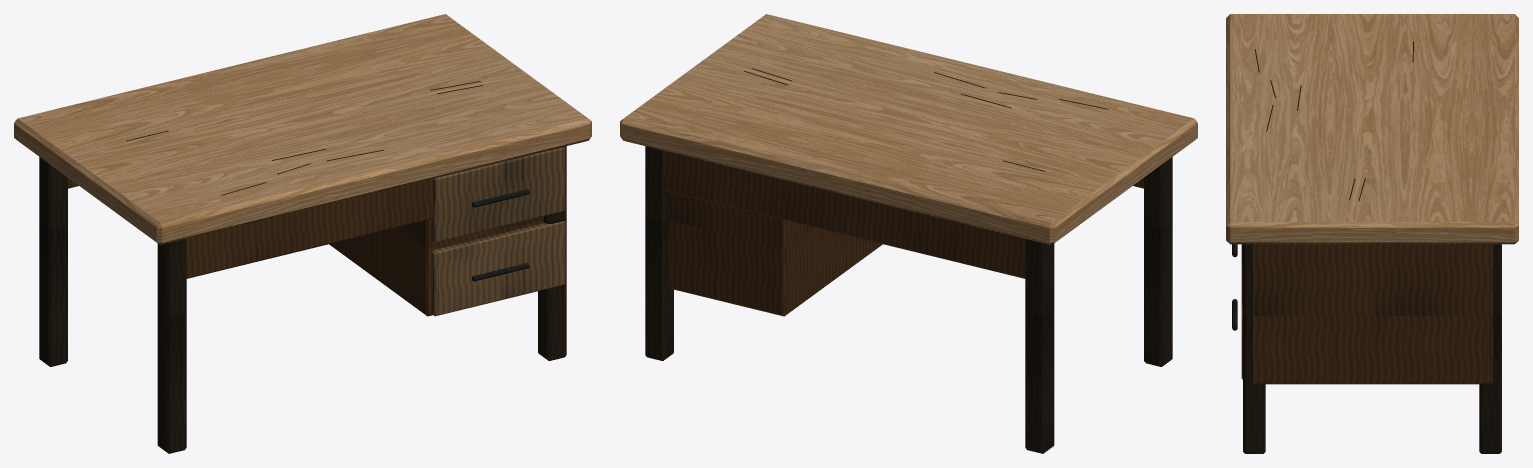
Rendered from desk_023_oak_veneer01_w1.glb.
3 views of the same model, side by side, from view 1: azimuth 30°, elevation 25°; view 2: azimuth 150°, elevation 25°; view 3: azimuth 270°, elevation 25° (orthographic).
Visible parts, largest first — view 1: REUSE__desk__023; view 2: REUSE__desk__023; view 3: REUSE__desk__023.
Boxes of the visible parts, left/top/right/bottom form: REUSE__desk__023: left=14, top=14, right=591, bottom=453; REUSE__desk__023: left=620, top=14, right=1197, bottom=453; REUSE__desk__023: left=1226, top=14, right=1518, bottom=453.
Size of the model in its own units: 1.42 by 0.7523 by 0.83.
5 materials, 5 textured.
